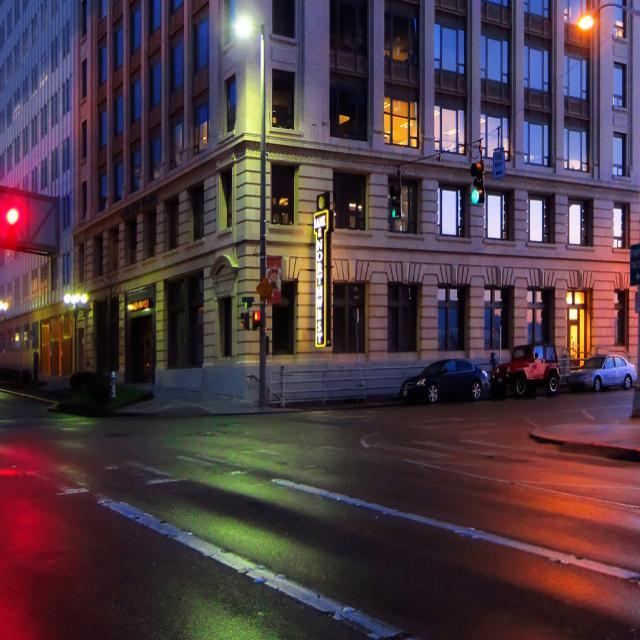traffic light: (471, 163, 484, 204), (389, 183, 401, 217)
